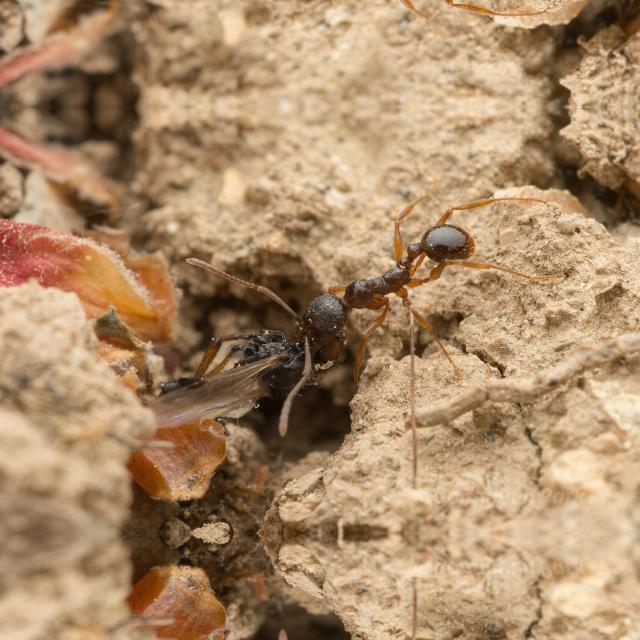Apheanogaster: (254, 187, 516, 363)
